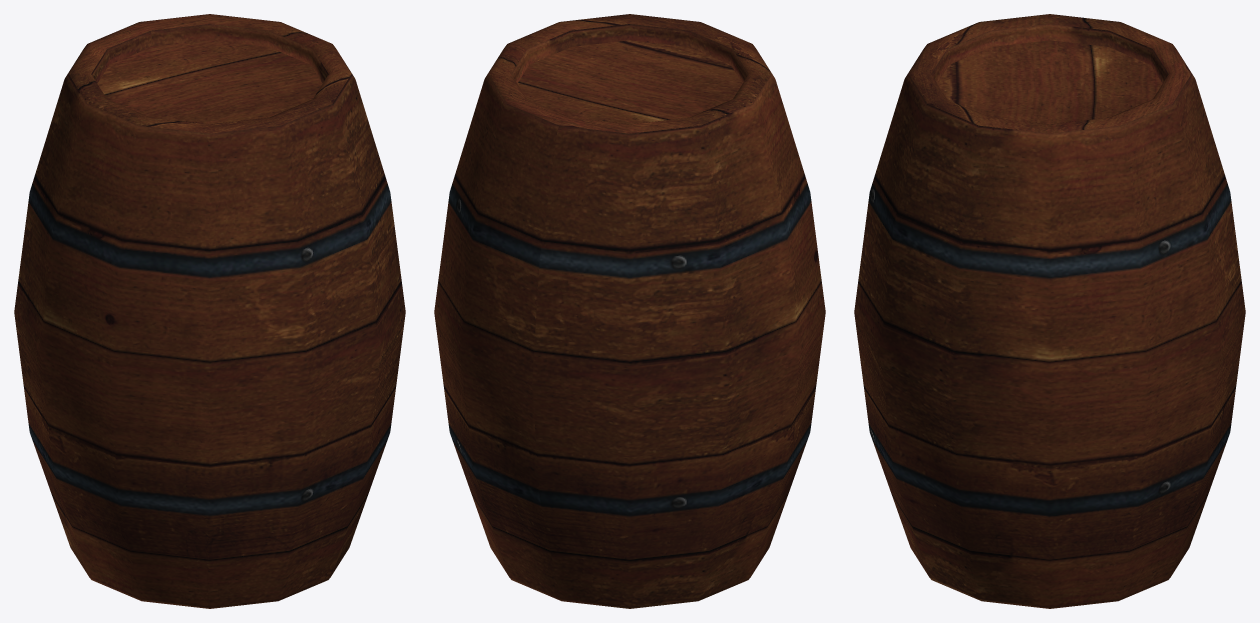
Rendered from barrel.fbx.
The picture shows the model from 3 angles, left to right: view 1: azimuth 30°, elevation 25°; view 2: azimuth 150°, elevation 25°; view 3: azimuth 270°, elevation 25°; orthographic projection.
Parts seen in each view (by area): view 1: pCylinder12; view 2: pCylinder12; view 3: pCylinder12.
Boxes of the visible parts, left/top/right/bottom form: pCylinder12: left=14, top=14, right=405, bottom=608; pCylinder12: left=434, top=14, right=825, bottom=608; pCylinder12: left=854, top=14, right=1245, bottom=608.
Bounding box in the file's own units: 0.5416 × 0.7335 × 0.5416.
